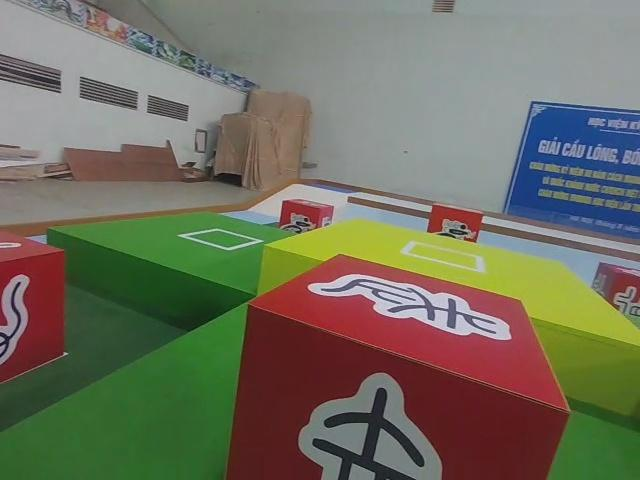R1: (422, 197, 486, 252), (276, 196, 337, 240)
R2 Fake: (224, 250, 572, 480)
R2 Real: (0, 227, 73, 393)
